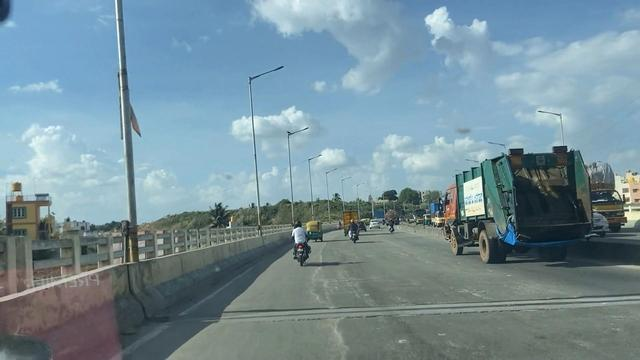HMV: (433, 143, 600, 277)
